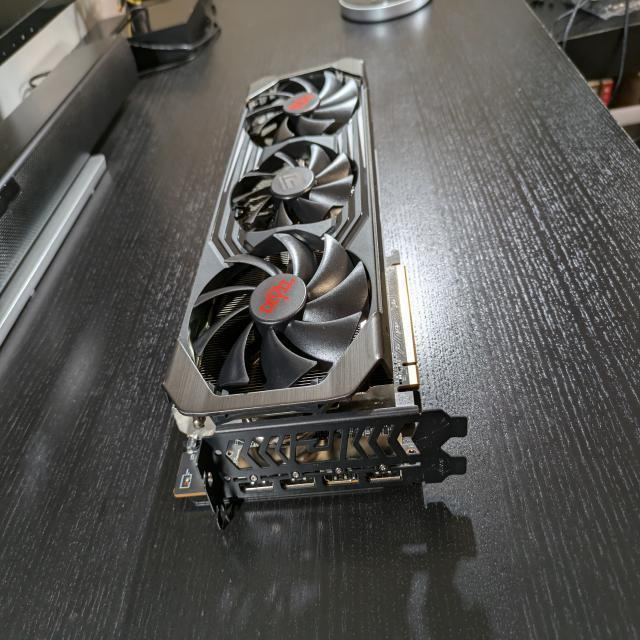GPU: (160, 56, 474, 507)
